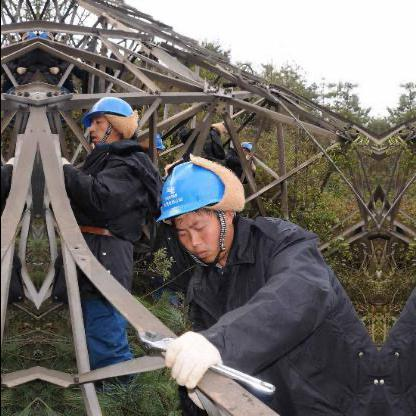Helmet: (151, 153, 237, 261), (80, 90, 134, 146)
